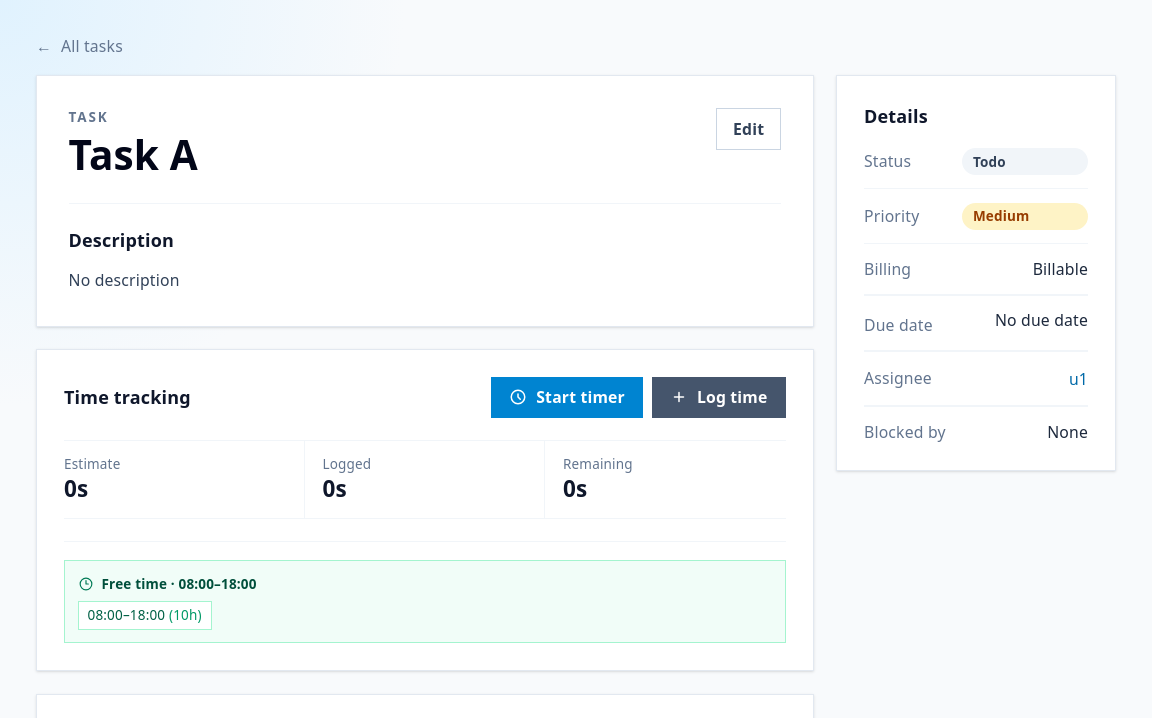
TaskDetailsPage › refreshes free time after logging time
Click the button "Log time". click: [719, 397]
box: [652,377,786,418]
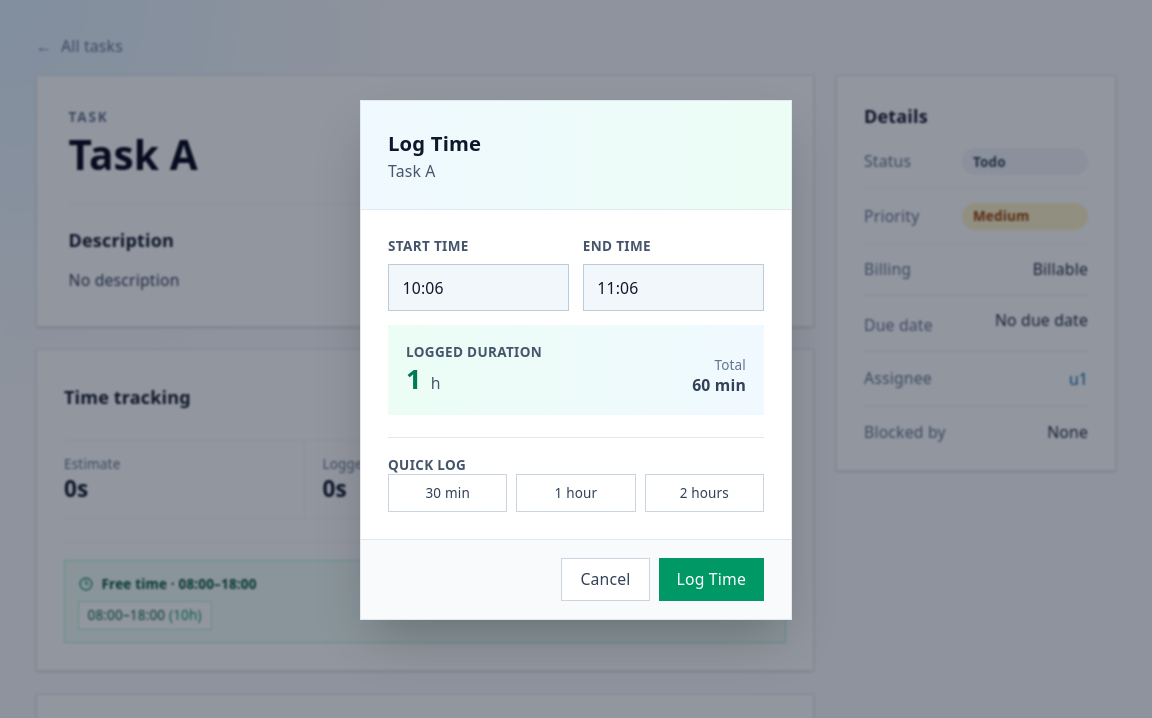
Replace the text in the field labelled "Start Time" with "09:00". click: [479, 288]
box: [388,264,569,311]
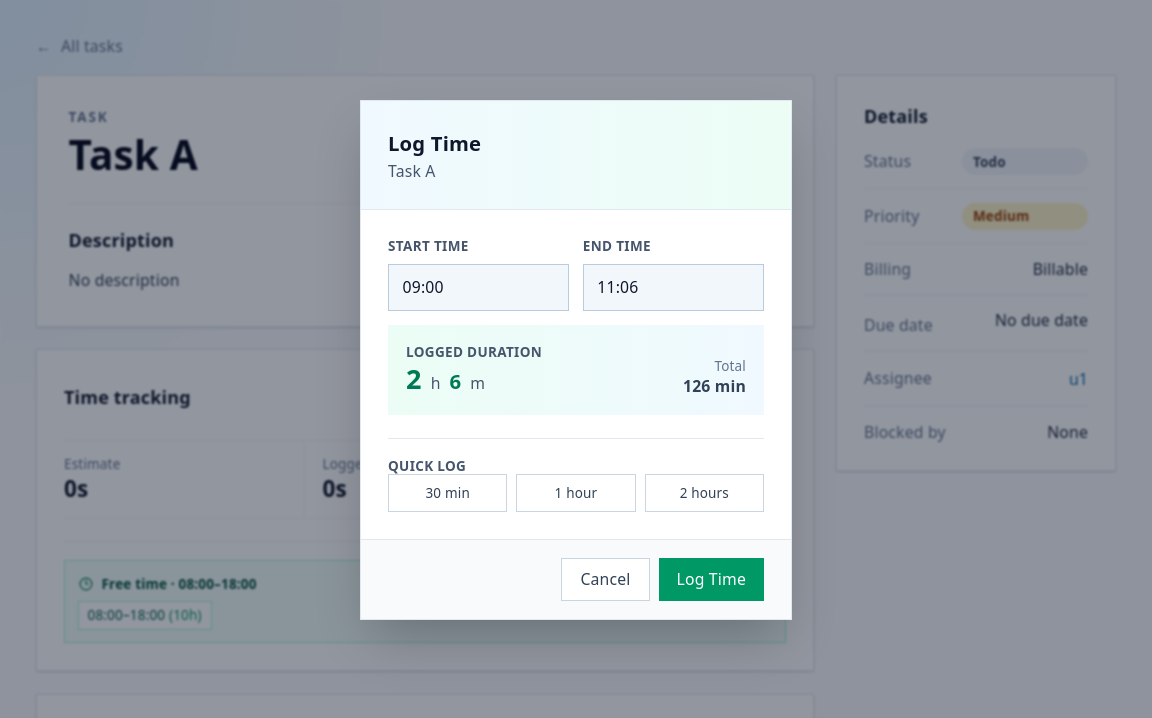
Replace the text in the field labelled "End Time" with "10:00". click: [673, 288]
box: [583,264,764,311]
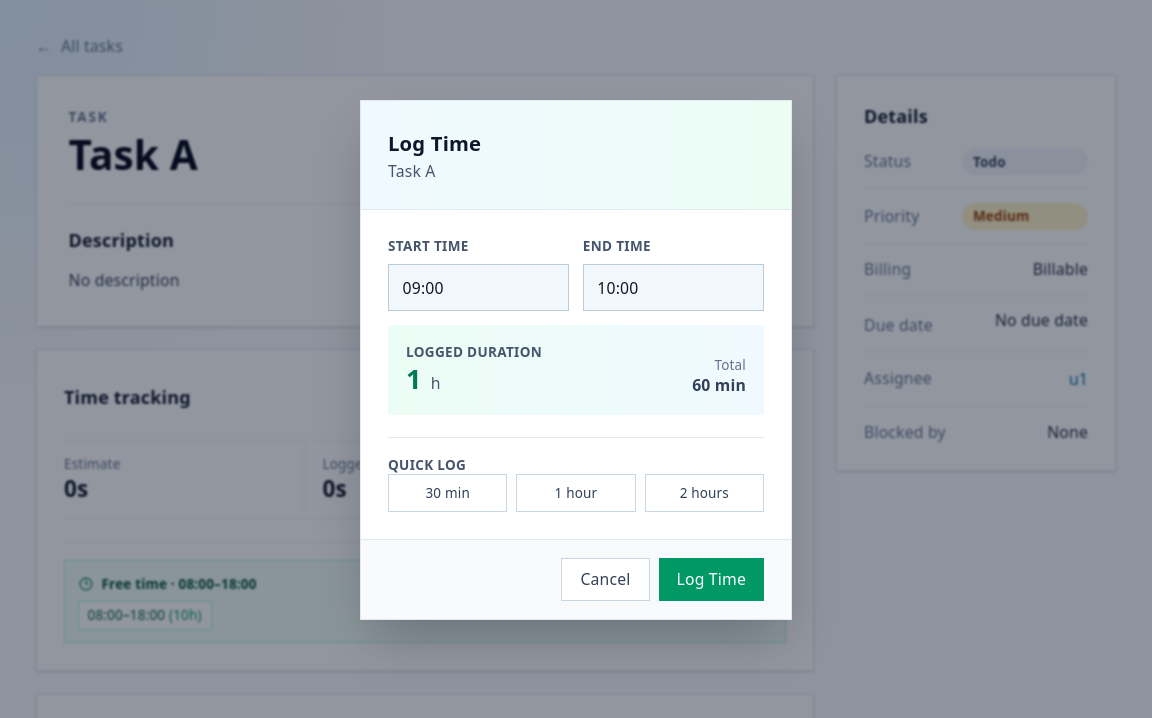
Click the button "Log Time". click: [711, 579]
box: [659,558,764,601]
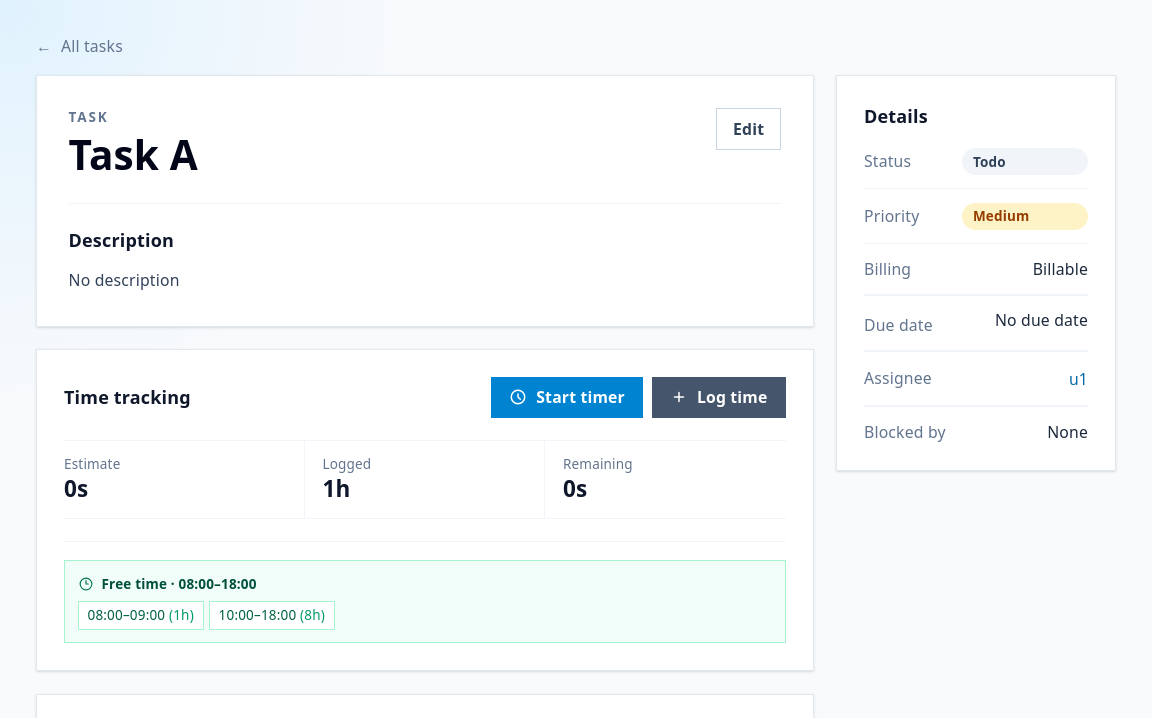
Expected: the text "08:00–09:00" is shown, [78,602,203,629]
Expected: the text "10:00–18:00" is shown, [210,602,334,629]
